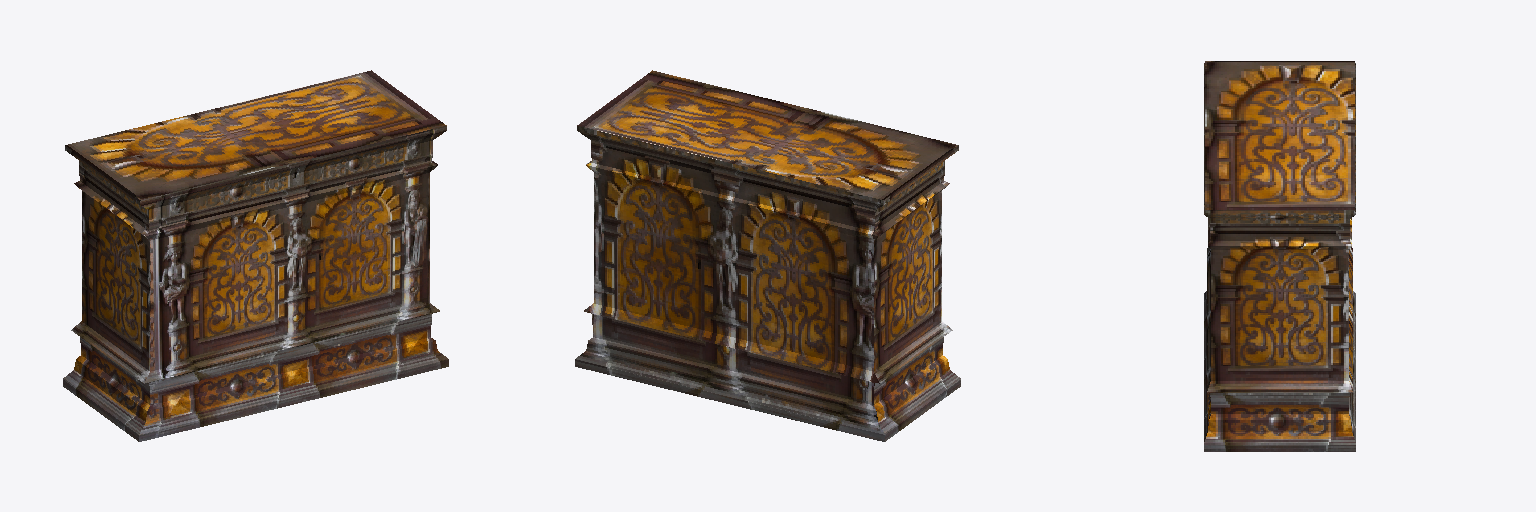
3 renders of one model, left to right at view 1: azimuth 30°, elevation 25°; view 2: azimuth 150°, elevation 25°; view 3: azimuth 270°, elevation 25°, orthographic.
Parts seen in each view (by area): view 1: furniture2; view 2: furniture2; view 3: furniture2.
Boxes of the visible parts, x1=… form: furniture2: x1=63, y1=70, x2=448, y2=441; furniture2: x1=575, y1=70, x2=960, y2=441; furniture2: x1=1204, y1=61, x2=1355, y2=451.
Bounding box in the file's own units: 1.51 × 1.12 × 0.6436.
1 materials, 1 textured.